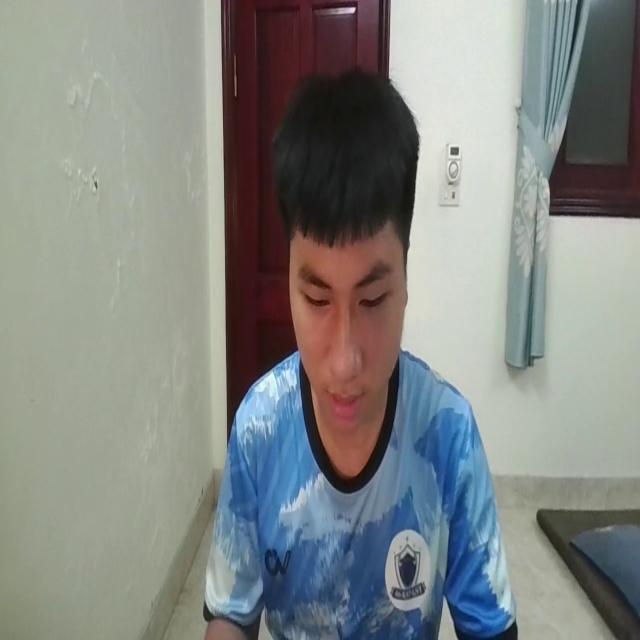student: (194, 64, 516, 640)
